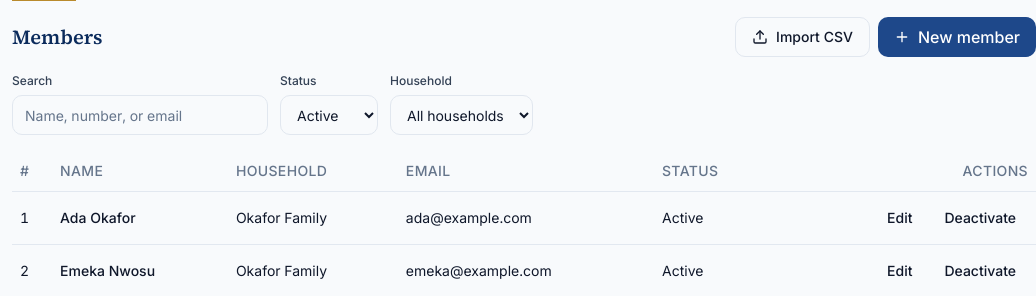
it: MembersListPage › filters the visible rows by the search box
The width and height of the screenshot is (1036, 296).
Expected: the text "Ada Okafor" is shown, [52,191,228,244]
Type "emeka" into the field labelled "Search" at [140, 115], box [12,95,268,135]
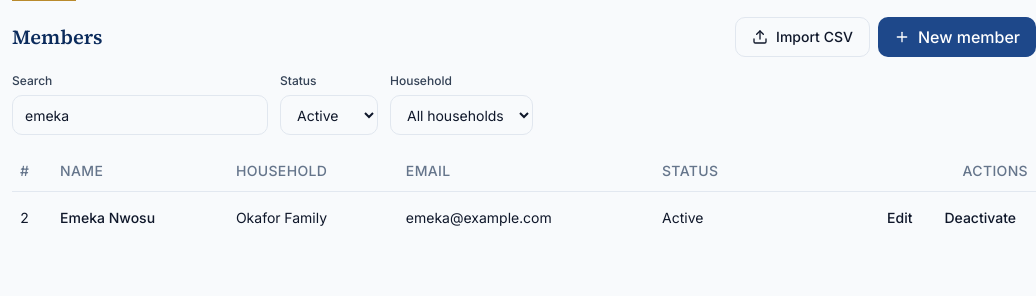
Expected: the text "Emeka Nwosu" is shown, [52,191,228,244]
Expected: the text "Ada Okafor" is gone
